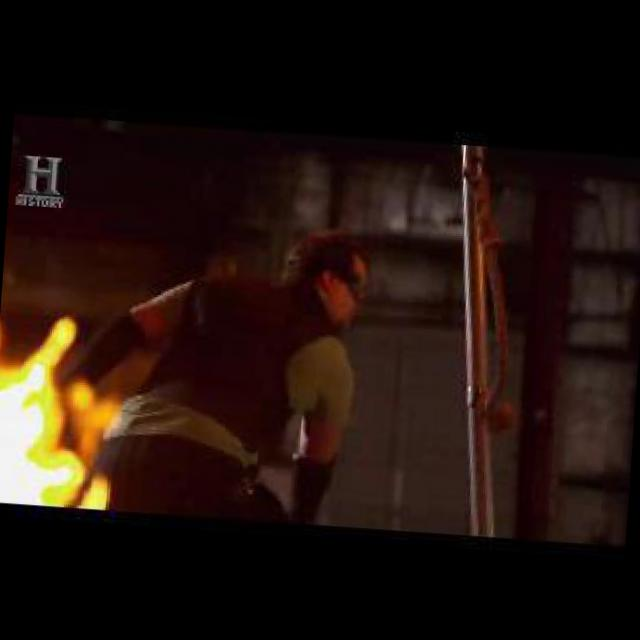fire: (0, 167, 136, 510)
